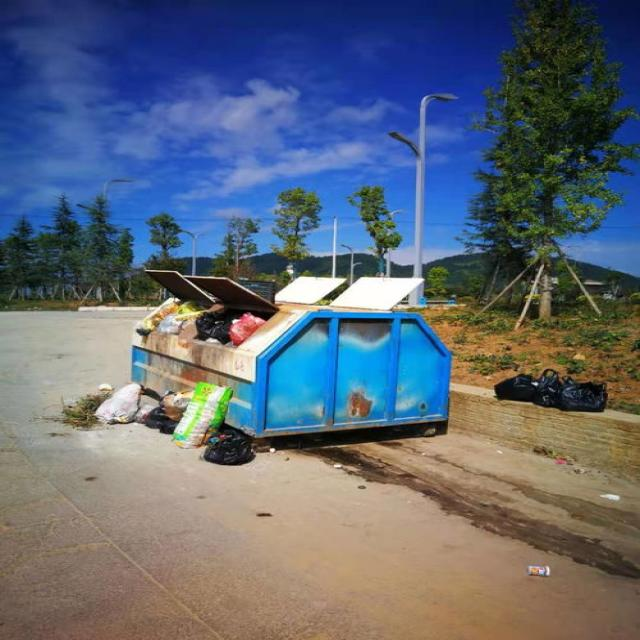garbage: (54, 381, 256, 464), (493, 368, 607, 411)
overflow: (128, 300, 452, 436)
